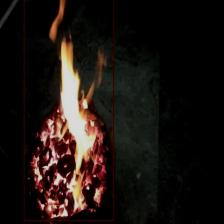fire: (23, 0, 114, 221)
